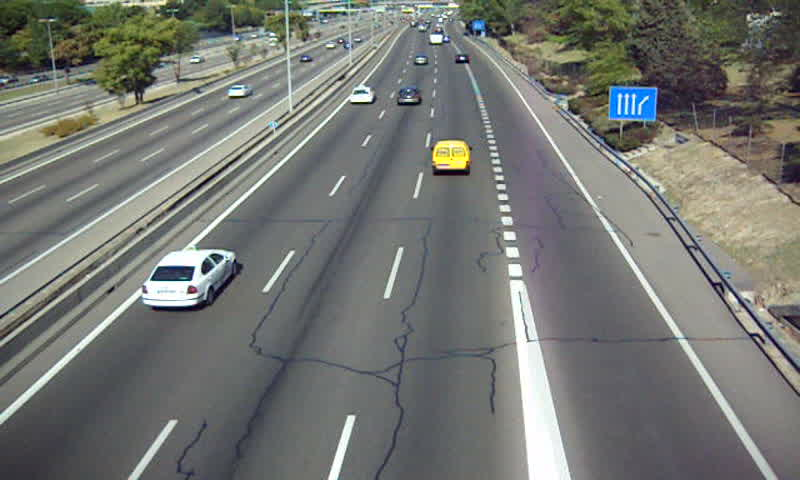car: (140, 249, 238, 310), (348, 86, 377, 104), (397, 87, 422, 107), (454, 52, 470, 65), (413, 54, 428, 67)
van: (431, 140, 471, 174)
